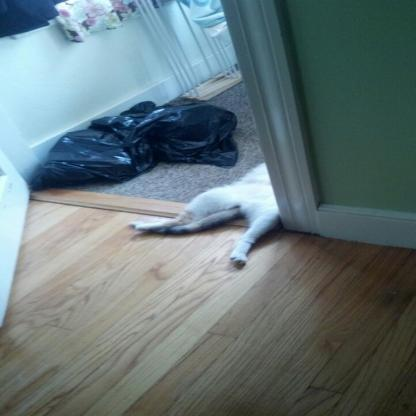Target: (138, 157, 291, 274)
